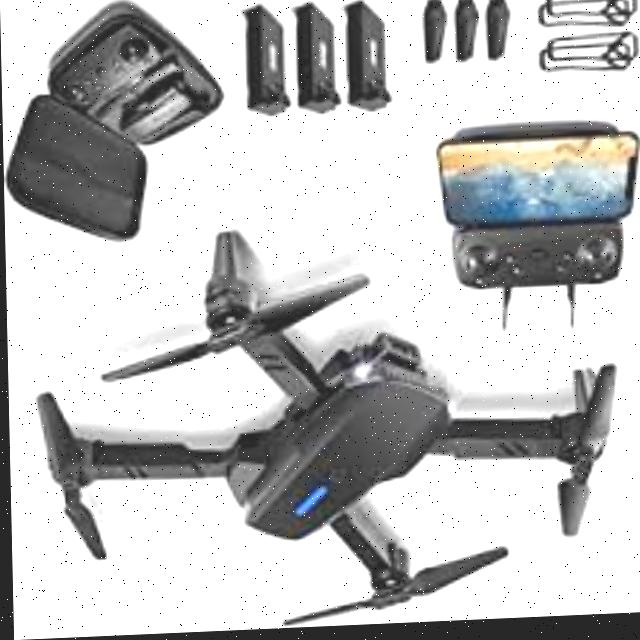drone: (4, 212, 640, 640)
